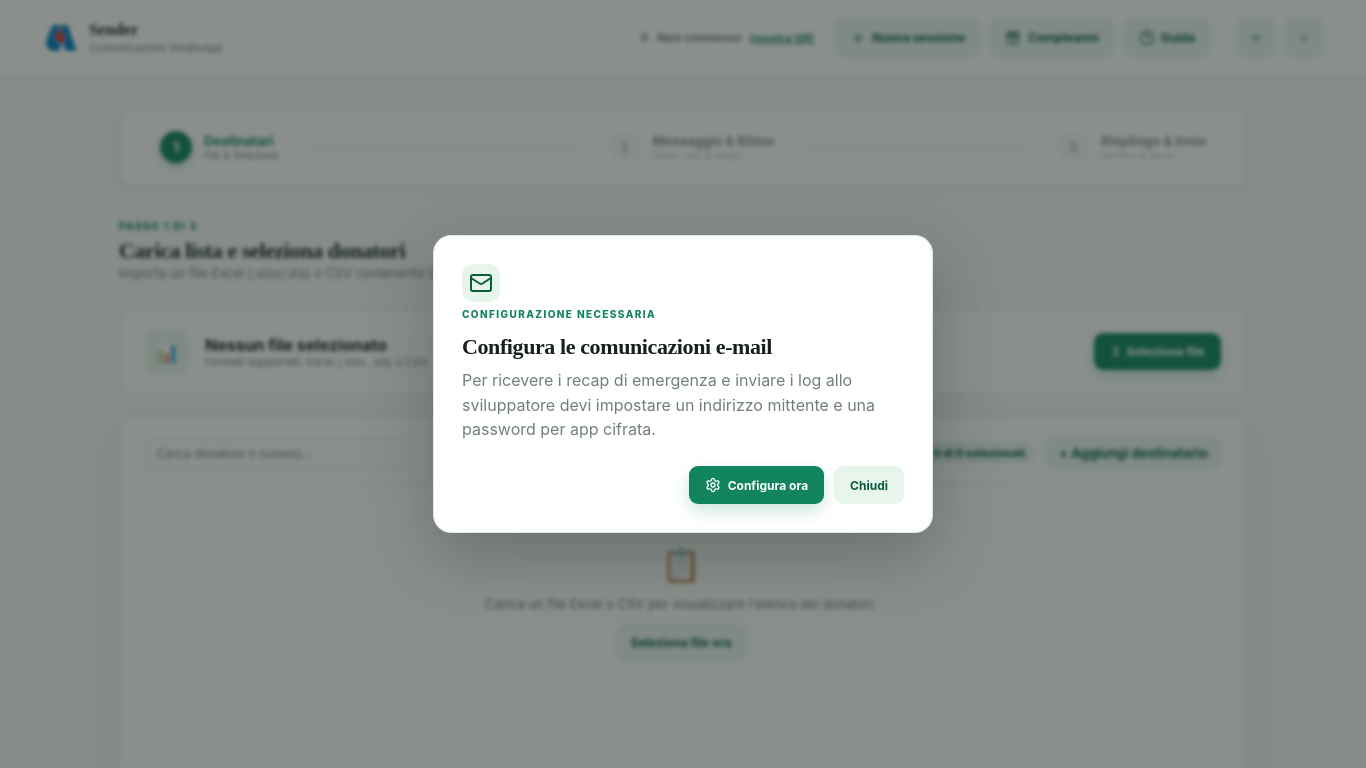
Test: App › mostra il prompt per configurare le comunicazioni e-mail all avvio
expect the dialog "Configura le comunicazioni e-mail" is shown: met, box [433, 235, 933, 533]
expect the text "recap di emergenza e inviare i log allo sviluppatore" is shown: met, box [462, 370, 875, 439]
Click the button "Configura ora". click: [756, 485]
box: [689, 466, 824, 504]
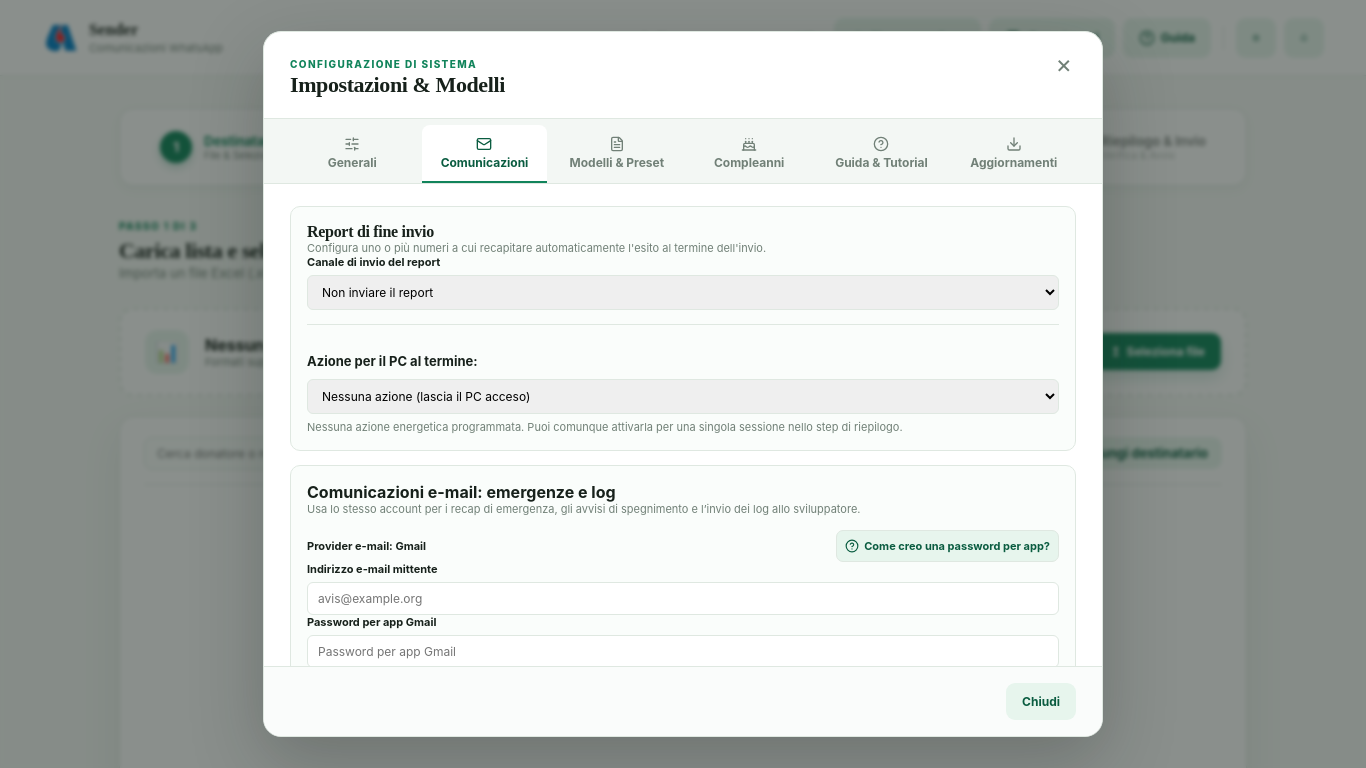
expect the dialog "Impostazioni" is shown: met, box [263, 31, 1103, 737]
